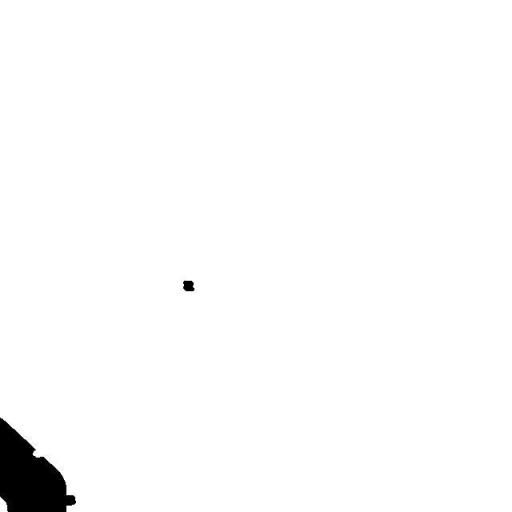copper: (175, 273, 202, 298)
mousebite: (25, 442, 52, 465)
spur: (57, 487, 83, 511)
